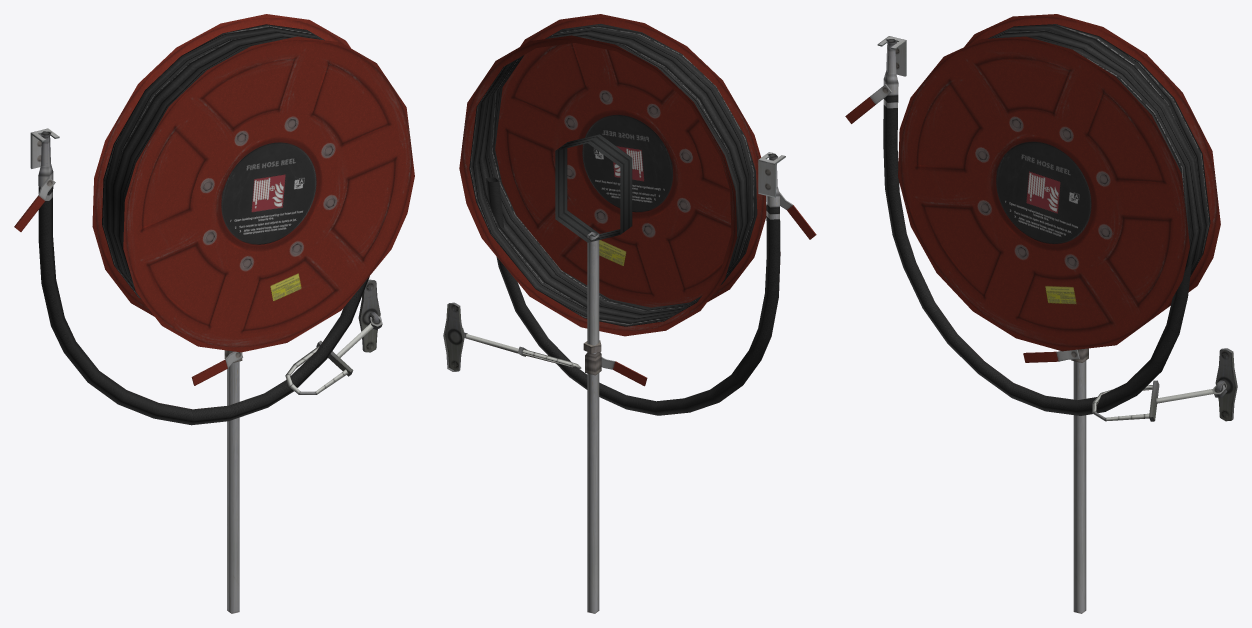
Rendered from ms_fire_hosereel_lod2.fbx.
The picture shows the model from 3 angles, left to right: view 1: azimuth 30°, elevation 25°; view 2: azimuth 150°, elevation 25°; view 3: azimuth 330°, elevation 25°; orthographic projection. The views are drawn at different scales.
Parts seen in each view (by area): view 1: ms_fire_hosereel_lod2; view 2: ms_fire_hosereel_lod2; view 3: ms_fire_hosereel_lod2.
Part boxes in pixels (x1=…): ms_fire_hosereel_lod2: x1=14, y1=14, x2=414, y2=613; ms_fire_hosereel_lod2: x1=443, y1=14, x2=816, y2=613; ms_fire_hosereel_lod2: x1=845, y1=14, x2=1237, y2=613.
Size of the model in its own units: 79.29 by 119 by 15.2.
